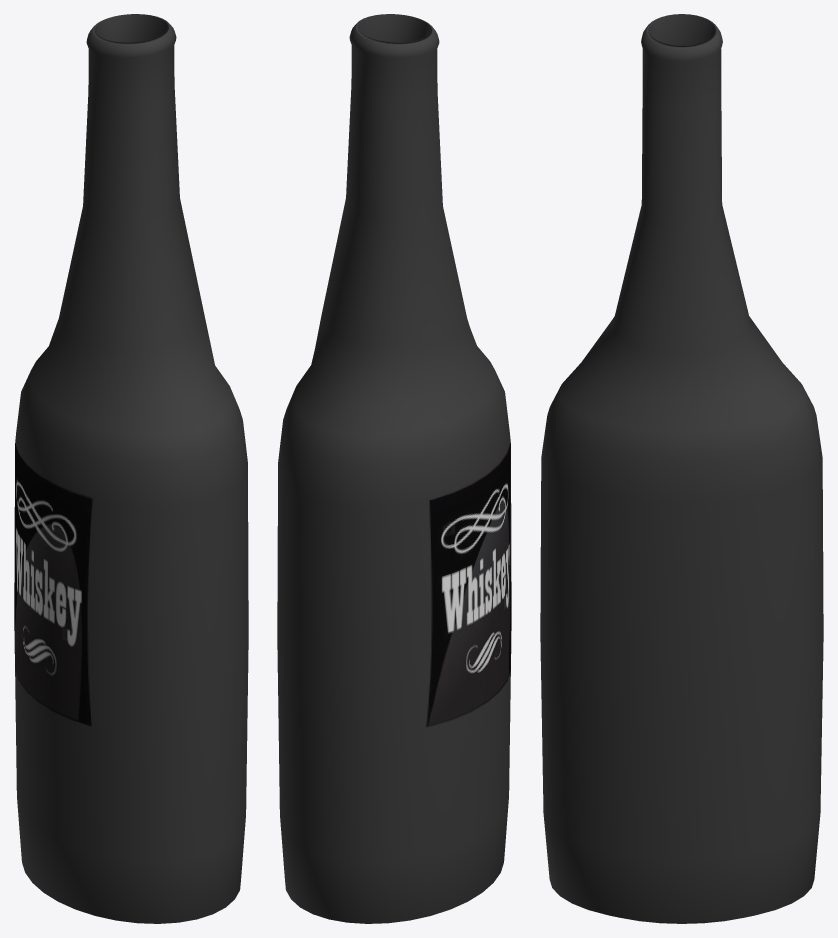
Rendered from Botella_2.fbx.
The picture shows the model from 3 angles, left to right: view 1: azimuth 30°, elevation 25°; view 2: azimuth 150°, elevation 25°; view 3: azimuth 270°, elevation 25°; orthographic projection.
Parts seen in each view (by area): view 1: revolvedSurface2; view 2: revolvedSurface2; view 3: revolvedSurface2.
Boxes of the visible parts, left/top/right/bottom form: revolvedSurface2: left=14, top=14, right=248, bottom=923; revolvedSurface2: left=277, top=14, right=511, bottom=923; revolvedSurface2: left=540, top=14, right=823, bottom=923.
Bounding box in the file's own units: 3.13 × 13.63 × 4.05.
